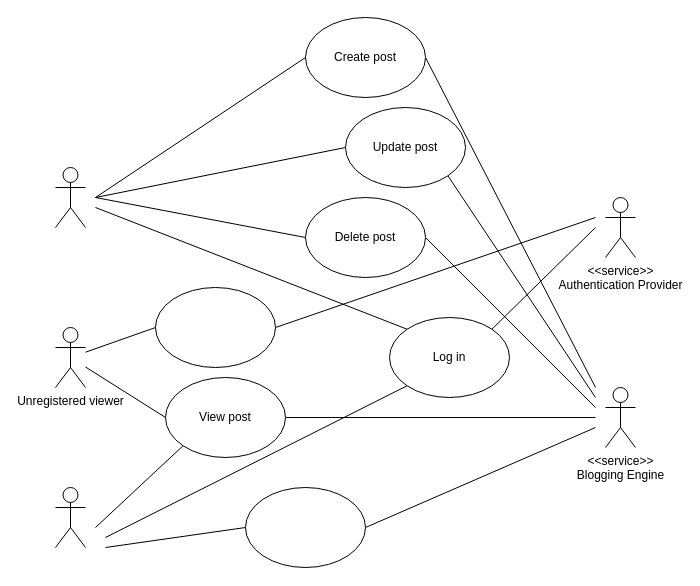
The diagram is 700 pixels wide and 586 high, and some of its shapes have lost their labels. Each missing label, with the box of its shape:
Add comment to post: (244, 486, 366, 568)
Author: (54, 166, 86, 228)
Register: (154, 286, 276, 368)
Registered viewer: (54, 486, 86, 548)
